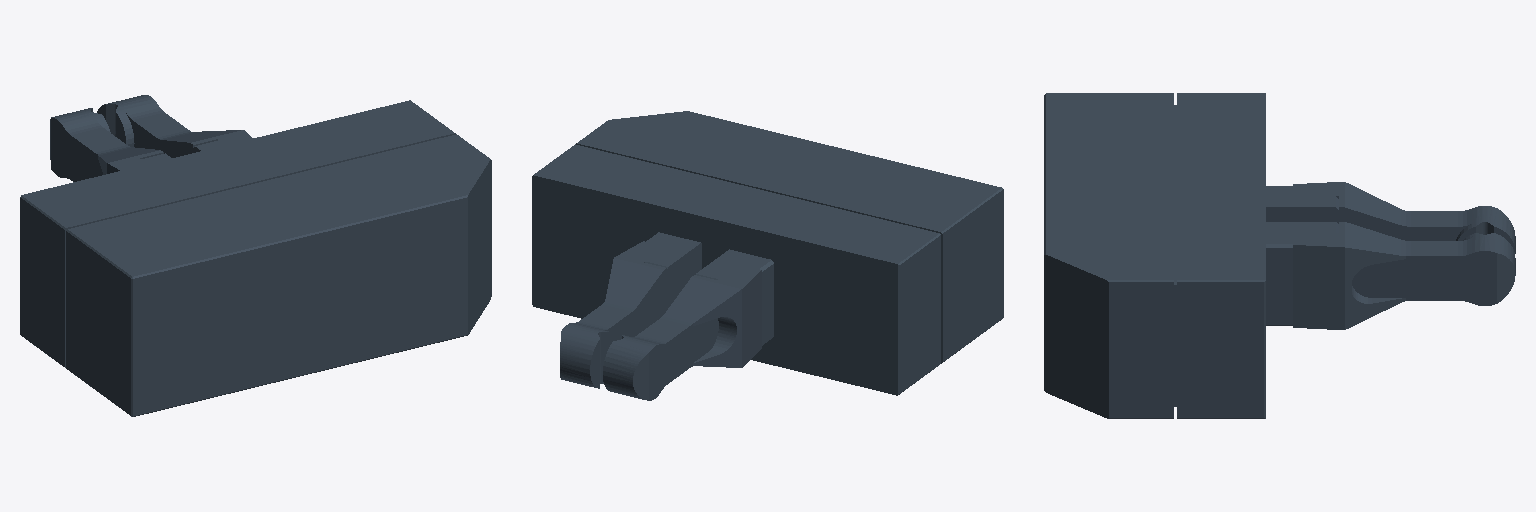
The robot description file, URDF, robot "wsg50":
<?xml version='1.0' encoding='utf-8'?>
<robot name="wsg50">
  <link name="body">
    <inertial>
      <mass value="0.988882" />
      <inertia ixx="0.0006391680010416667" iyy="0.0019626011426666667" izz="0.0021897349770416664" ixy="0" ixz="0" iyz="0" />
    </inertial>
    <visual>
      <geometry>
        <mesh filename="wsg_body.obj" />
      </geometry>
      <material name="wsg">
        <color rgba="0.3 0.35 0.4 1" />
      </material>
    </visual>
    <collision name="collision">
      <origin xyz="0 0 0" rpy="0 0 0" />
      <geometry>
        <box size="0.146 0.0725 0.05" />
      </geometry>
    </collision>
  </link>
  <link name="left_finger">
    <inertial>
      <mass value="0.05" />
      <inertia ixx="2.968333333333334e-05" iyy="2.266666666666667e-06" izz="2.861666666666667e-05" ixy="0" ixz="0" iyz="0" />
    </inertial>
    <visual>
      <geometry>
        <mesh filename="finger_with_tip.obj" />
      </geometry>
      <material name="wsg">
        <color rgba="0.3 0.35 0.4 1" />
      </material>
    </visual>
    <collision name="left_top">
      <origin xyz="-0.008 0.021 0" rpy="0 0 0" />
      <geometry>
        <sphere radius="0.001" />
      </geometry>
    </collision>
    <collision name="left_bottom">
      <origin xyz="-0.008 0.041 0" rpy="0 0 0" />
      <geometry>
        <sphere radius="0.001" />
      </geometry>
    </collision>
    <collision name="left_left">
      <origin xyz="-0.008 0.031 -0.01" rpy="0 0 0" />
      <geometry>
        <sphere radius="0.001" />
      </geometry>
    </collision>
    <collision name="left_right">
      <origin xyz="-0.008 0.031 0.01" rpy="0 0 0" />
      <geometry>
        <sphere radius="0.001" />
      </geometry>
    </collision>
    <collision name="collision">
      <origin xyz="0 0 0" rpy="0 0 0" />
      <geometry>
        <box size="0.012 0.082 0.02" />
      </geometry>
    </collision>
  </link>
  <link name="right_finger">
    <inertial>
      <mass value="0.05" />
      <inertia ixx="2.968333333333334e-05" iyy="2.266666666666667e-06" izz="2.861666666666667e-05" ixy="0" ixz="0" iyz="0" />
    </inertial>
    <visual>
      <geometry>
        <mesh filename="finger_with_tip.obj" />
      </geometry>
      <material name="wsg">
        <color rgba="0.3 0.35 0.4 1" />
      </material>
    </visual>
    <collision name="right_top">
      <origin xyz="-0.008 0.021 0" rpy="0 0 0" />
      <geometry>
        <sphere radius="0.001" />
      </geometry>
    </collision>
    <collision name="right_bottom">
      <origin xyz="-0.008 0.041 0" rpy="0 0 0" />
      <geometry>
        <sphere radius="0.001" />
      </geometry>
    </collision>
    <collision name="right_left">
      <origin xyz="-0.008 0.031 -0.01" rpy="0 0 0" />
      <geometry>
        <sphere radius="0.001" />
      </geometry>
    </collision>
    <collision name="right_right">
      <origin xyz="-0.008 0.031 0.01" rpy="0 0 0" />
      <geometry>
        <sphere radius="0.001" />
      </geometry>
    </collision>
    <collision name="collision">
      <origin xyz="0 0 0" rpy="0 0 0" />
      <geometry>
        <box size="0.012 0.082 0.02" />
      </geometry>
    </collision>
  </link>
  <joint name="left_finger_sliding_joint" type="prismatic">
    <parent link="body" />
    <child link="left_finger" />
    <origin xyz="-0.0115 0.077133 0" rpy="0 3.141592653589793 0" />
    <axis xyz="-1 0 0" />
    <limit lower="-0.055" upper="0" effort="80" velocity="0.2" />
    <dynamics damping="0" friction="0" />
  </joint>
  <transmission name="left_finger_sliding_joint_transmission">
    <type>transmission_interface/SimpleTransmission</type>
    <joint name="left_finger_sliding_joint">
      <hardwareInterface>EffortJointInterface</hardwareInterface>
    </joint>
    <actuator name="left_finger_sliding_joint_actuator">
      <mechanicalReduction>1</mechanicalReduction>
    </actuator>
  </transmission>
  <joint name="right_finger_sliding_joint" type="prismatic">
    <parent link="body" />
    <child link="right_finger" />
    <origin xyz="0.0115 0.077133 0" rpy="0 0 0" />
    <axis xyz="1 0 0" />
    <limit lower="0" upper="0.055" effort="80" velocity="0.2" />
    <dynamics damping="0" friction="0" />
  </joint>
  <transmission name="right_finger_sliding_joint_transmission">
    <type>transmission_interface/SimpleTransmission</type>
    <joint name="right_finger_sliding_joint">
      <hardwareInterface>EffortJointInterface</hardwareInterface>
    </joint>
    <actuator name="right_finger_sliding_joint_actuator">
      <mechanicalReduction>1</mechanicalReduction>
    </actuator>
  </transmission>
</robot>

--- Render facts (derived) ---
Views: 3 orthographic renders of the robot side by side, from view 1: azimuth 30°, elevation 25°; view 2: azimuth 150°, elevation 25°; view 3: azimuth 270°, elevation 25°.
Model wsg50 with 3 links and 2 joints (2 prismatic), rooted at body, posed all joints at 0.
Visible links, largest first — view 1: body, left_finger, right_finger; view 2: body, left_finger, right_finger; view 3: body, right_finger, left_finger.
Link boxes in pixels (left/top/right/bottom): body: left=20, top=100, right=491, bottom=416; left_finger: left=50, top=108, right=170, bottom=181; right_finger: left=97, top=95, right=252, bottom=157; body: left=532, top=111, right=1003, bottom=395; left_finger: left=603, top=249, right=773, bottom=400; right_finger: left=560, top=232, right=701, bottom=388; body: left=1044, top=93, right=1265, bottom=418; right_finger: left=1266, top=222, right=1515, bottom=329; left_finger: left=1266, top=182, right=1515, bottom=253.
Bounding box of the posed robot: 0.146 × 0.1544 × 0.05 m (x, y, z).
3 mesh visuals loaded from 2 distinct referenced files (2 OBJ).
